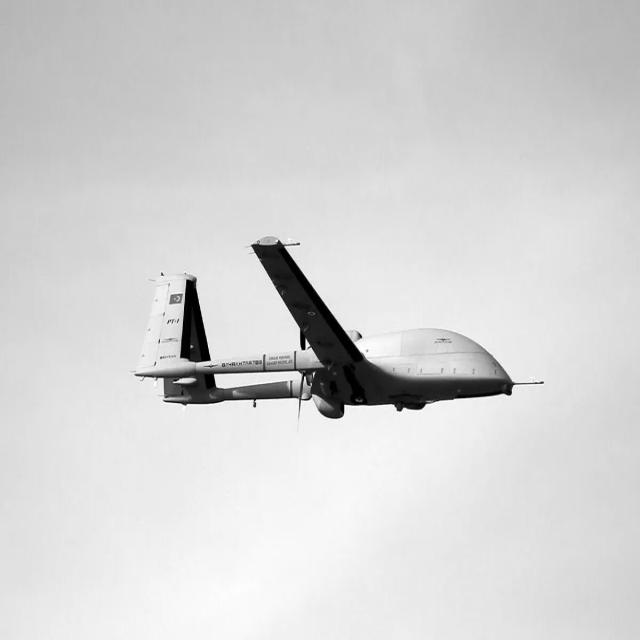iha: (128, 237, 542, 418)
